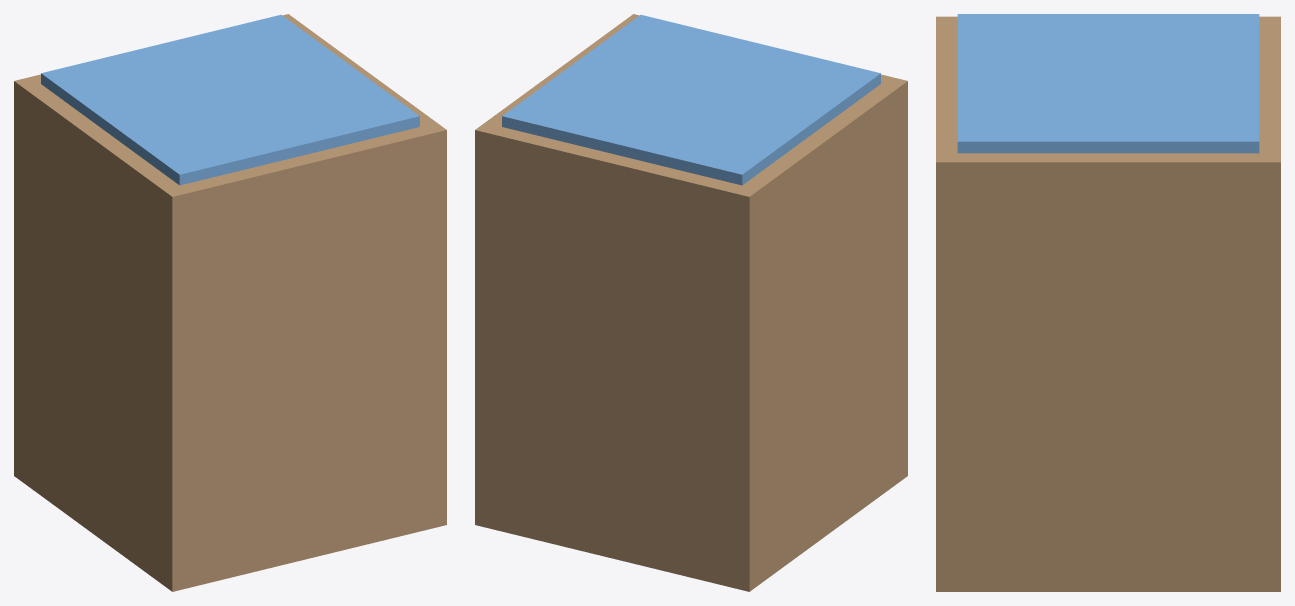
File: Prop_DS_Water_CisternBarrel_V0.glb
The picture shows the model from 3 angles, left to right: view 1: azimuth 30°, elevation 25°; view 2: azimuth 150°, elevation 25°; view 3: azimuth 270°, elevation 25°; orthographic projection. The views are drawn at different scales.
Parts seen in each view (by area): view 1: Prop_DS_Water_CisternBarrel_V0; view 2: Prop_DS_Water_CisternBarrel_V0; view 3: Prop_DS_Water_CisternBarrel_V0.
Part boxes in pixels (<box>): Prop_DS_Water_CisternBarrel_V0: <box>14,14,446,591</box>; Prop_DS_Water_CisternBarrel_V0: <box>475,14,907,591</box>; Prop_DS_Water_CisternBarrel_V0: <box>936,14,1280,591</box>.
Bounding box in the file's own units: 0.8 × 1.13 × 0.8.
